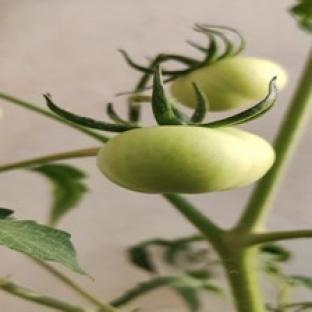Tomato: (98, 126, 274, 193), (170, 58, 286, 111)
